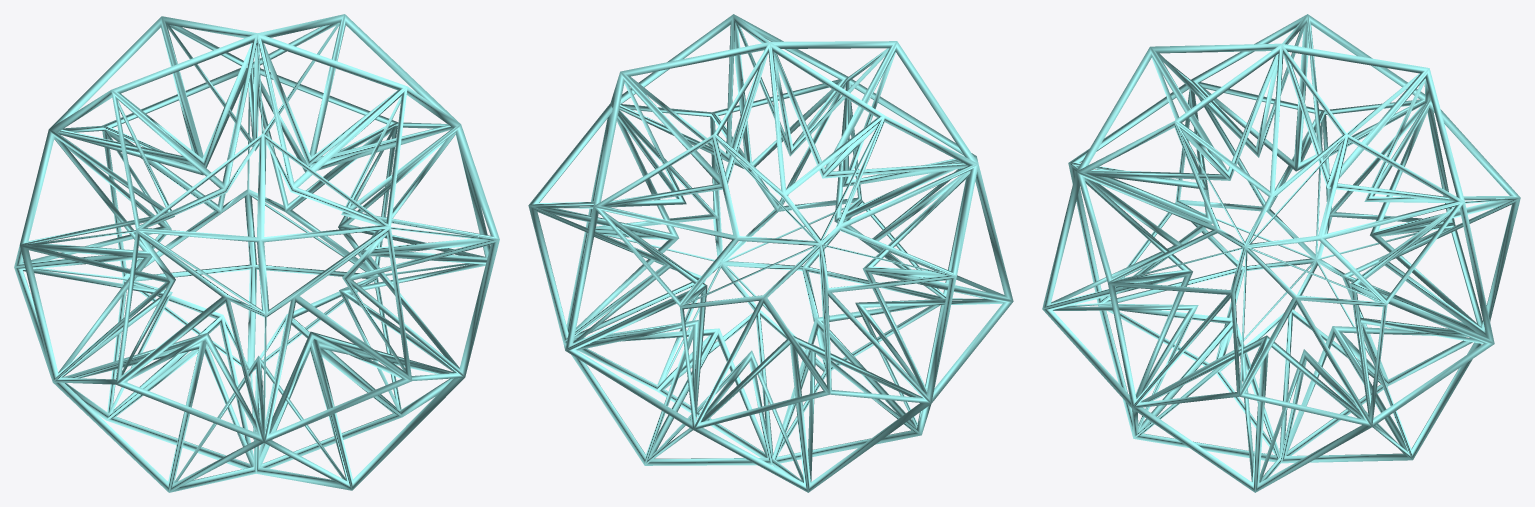
Rendered from Mobius120b2.glb.
3 views of the same model, side by side, from view 1: azimuth 30°, elevation 25°; view 2: azimuth 150°, elevation 25°; view 3: azimuth 270°, elevation 25° (orthographic). The views are drawn at different scales.
Parts seen in each view (by area): view 1: Mobius120b; view 2: Mobius120b; view 3: Mobius120b.
Part boxes in pixels (x1,y1,x2,y2): Mobius120b: [14, 14, 499, 492]; Mobius120b: [528, 14, 1013, 492]; Mobius120b: [1042, 14, 1520, 492].
Size of the model in its own units: 3.14 by 3.07 by 3.16.
